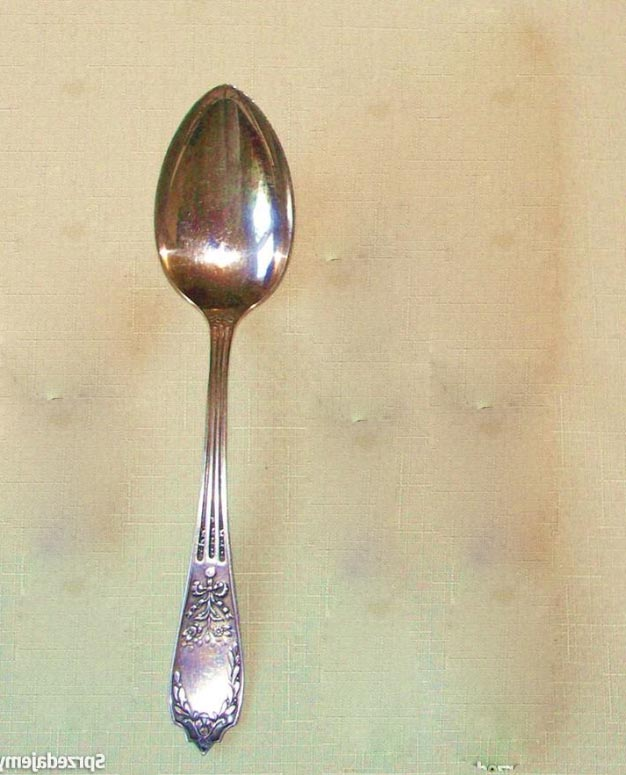Lyzka: (148, 81, 305, 322)
